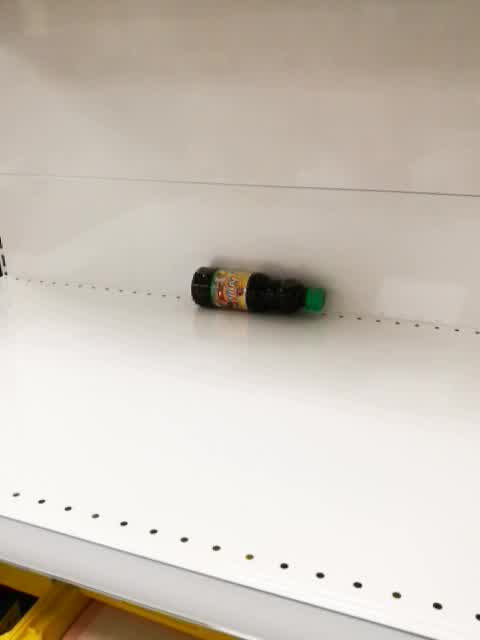cookingoil: (189, 263, 326, 319)
